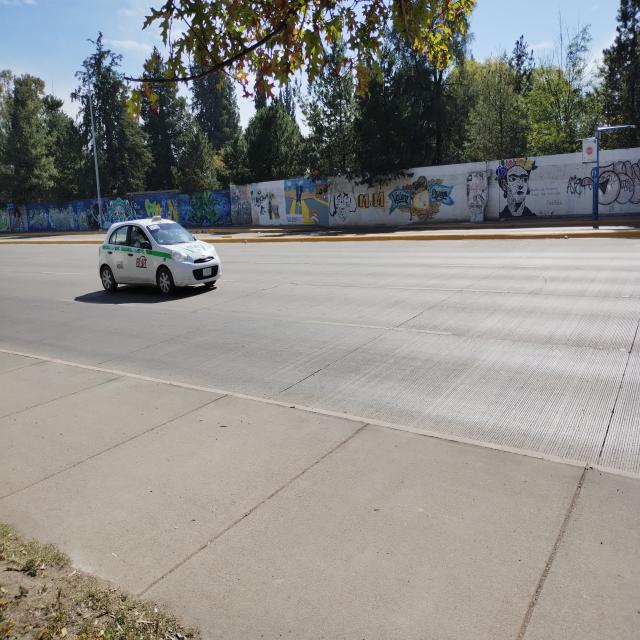Auto: (98, 215, 223, 292)
